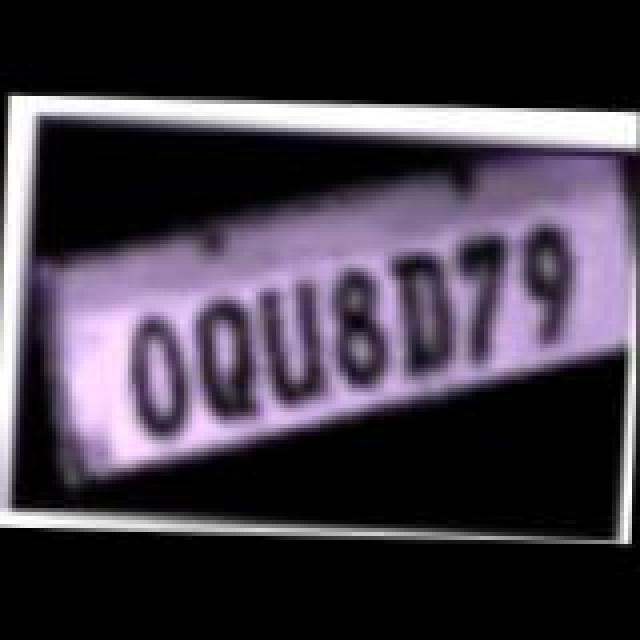7: (432, 230, 540, 370)
8: (304, 260, 412, 396)
9: (500, 218, 596, 350)
D: (366, 246, 478, 382)
O: (102, 312, 218, 444)
Q: (170, 290, 286, 426)
U: (230, 274, 350, 410)
